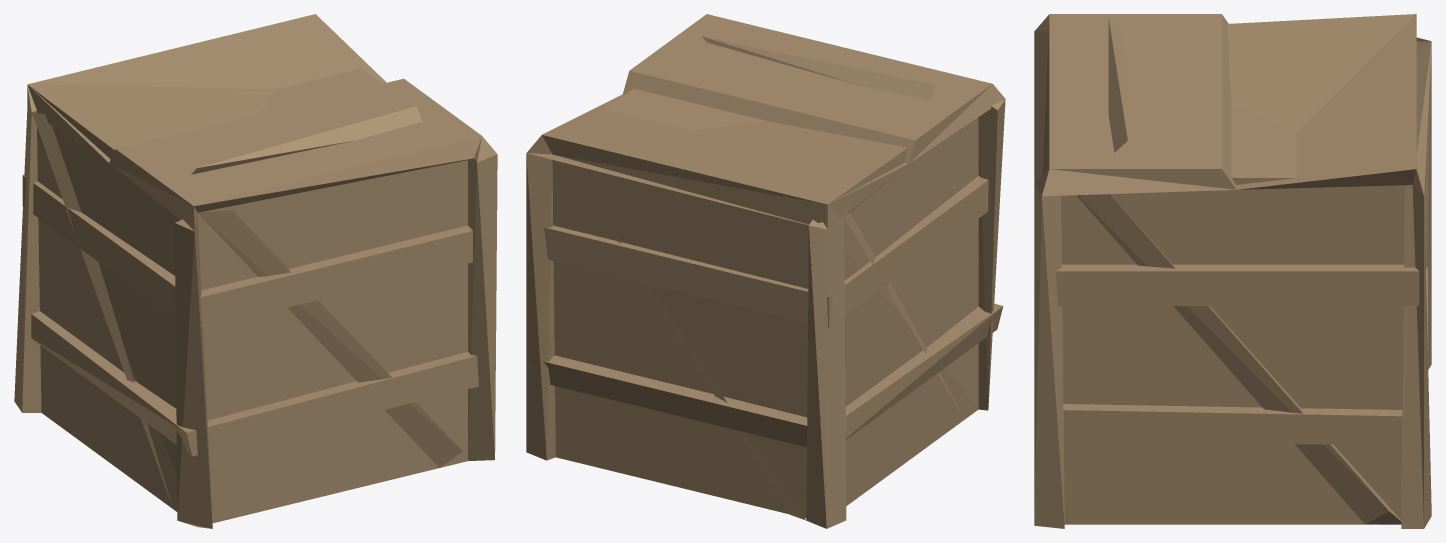
File: crate.lod2.glb
3 renders of one model, left to right at view 1: azimuth 30°, elevation 25°; view 2: azimuth 150°, elevation 25°; view 3: azimuth 270°, elevation 25°, orthographic. The views are drawn at different scales.
Size of the model in its own units: 1.04 by 1.07 by 1.04.
